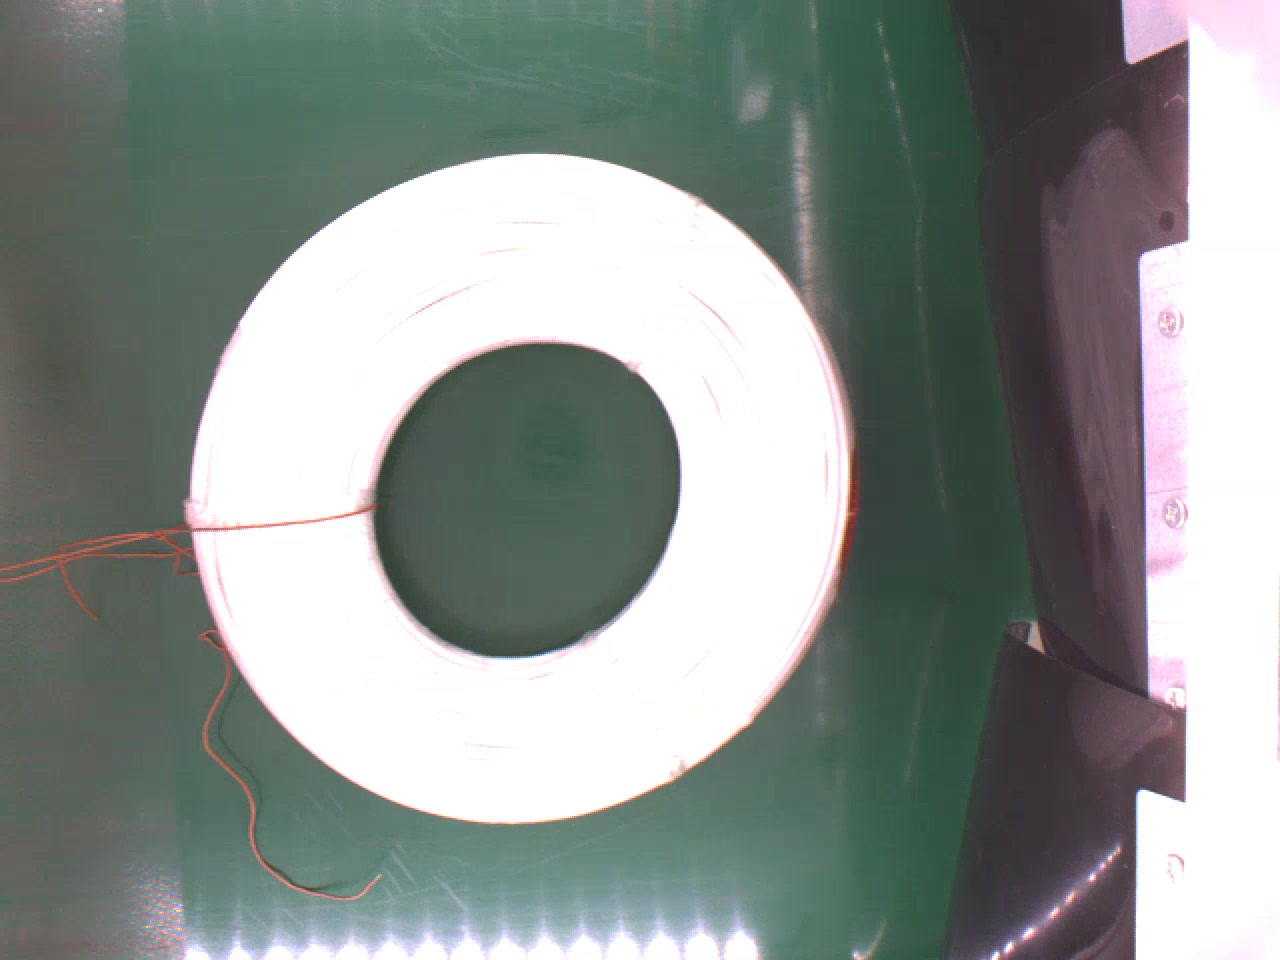white: (181, 147, 857, 830)
